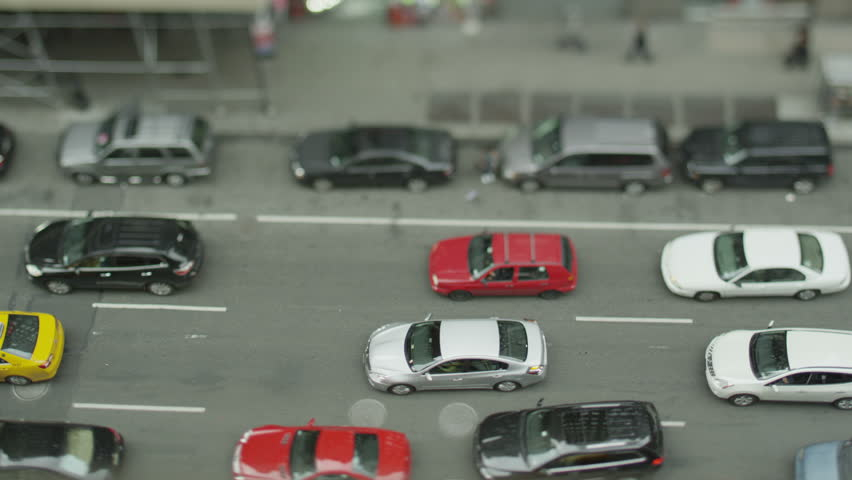car: (635, 217, 852, 308), (346, 314, 557, 395), (480, 408, 703, 479), (23, 212, 214, 294), (496, 116, 671, 197), (293, 120, 464, 197), (696, 329, 852, 404), (66, 114, 231, 184), (236, 418, 415, 480), (426, 230, 584, 296), (696, 121, 834, 190), (12, 297, 97, 390), (1, 419, 122, 479)
